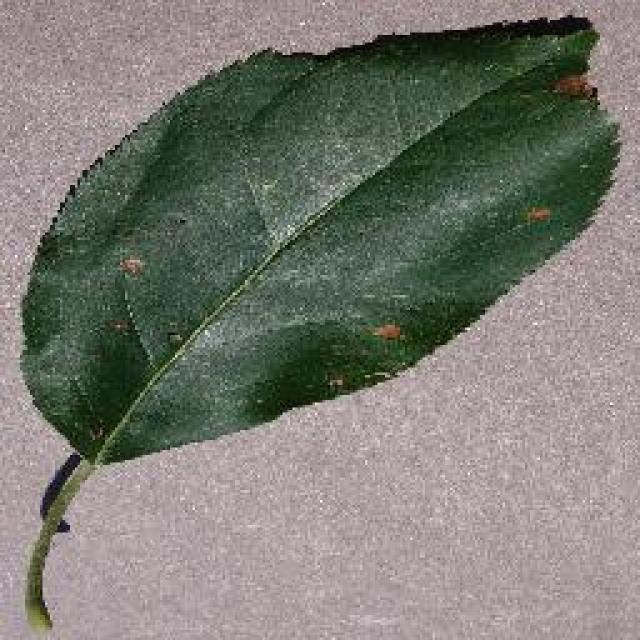Black_rot: (18, 12, 622, 630)
